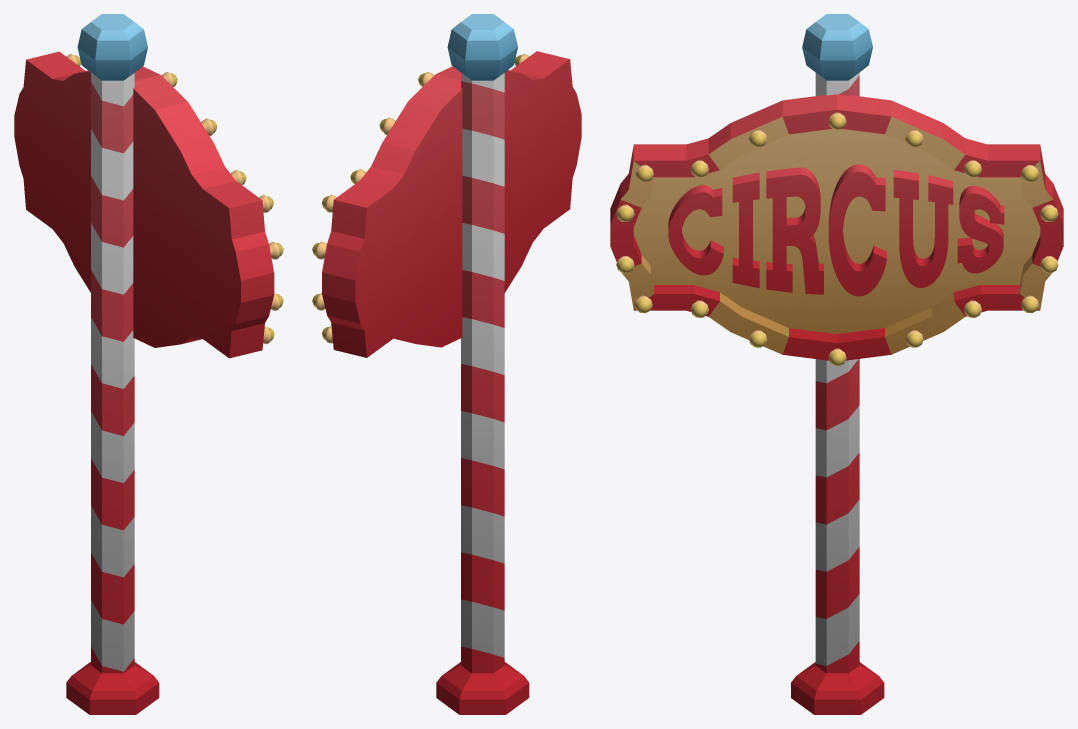
Rendered from circus_pole.fbx.
The picture shows the model from 3 angles, left to right: view 1: azimuth 30°, elevation 25°; view 2: azimuth 150°, elevation 25°; view 3: azimuth 270°, elevation 25°; orthographic projection.
Visible parts, largest first — view 1: circus_pole; view 2: circus_pole; view 3: circus_pole.
Boxes of the visible parts, box(x1,y1,x2,y2) form: circus_pole: box(14, 14, 283, 714); circus_pole: box(312, 14, 581, 714); circus_pole: box(610, 14, 1063, 714).
Bounding box in the file's own units: 40.36 × 264 × 160.
